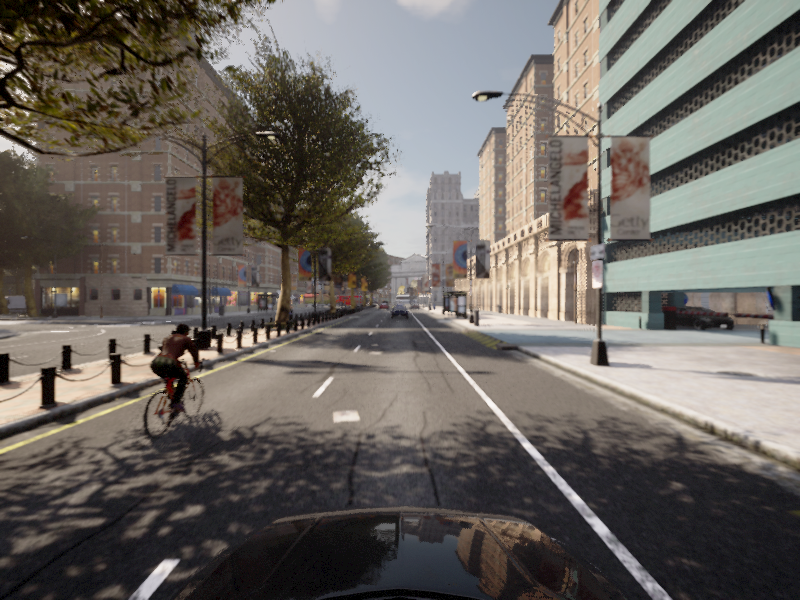vehicle: (122, 321, 219, 446), (391, 305, 408, 318), (284, 303, 296, 319)
